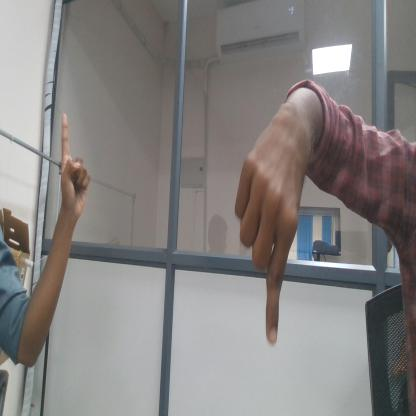Down: (233, 105, 300, 349)
Up: (48, 97, 100, 228)
